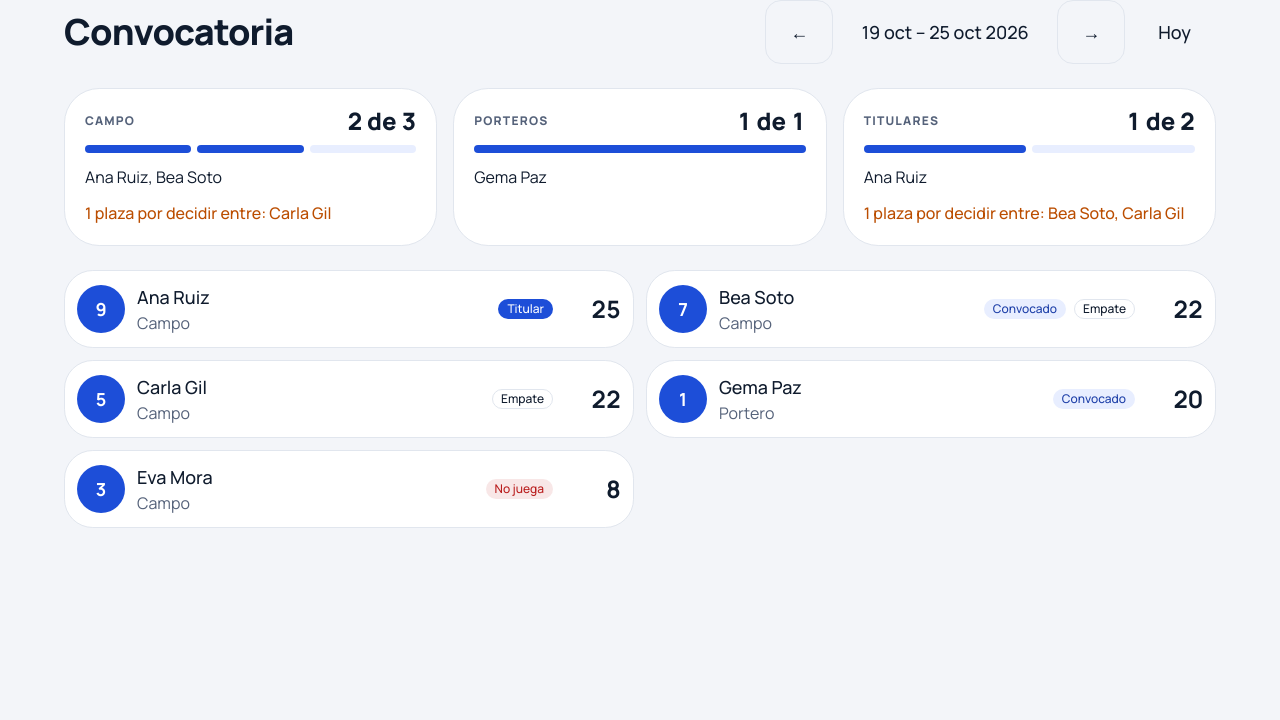
it: ConvocatoriaPage › el desglose tiene un único control de cierre y mantiene el título al cerrarse
This screenshot has width=1280, height=720.
Click the button "9 Ana Ruiz Campo Titular 25" at coordinates (101, 309), box 64,270 -> 634,348
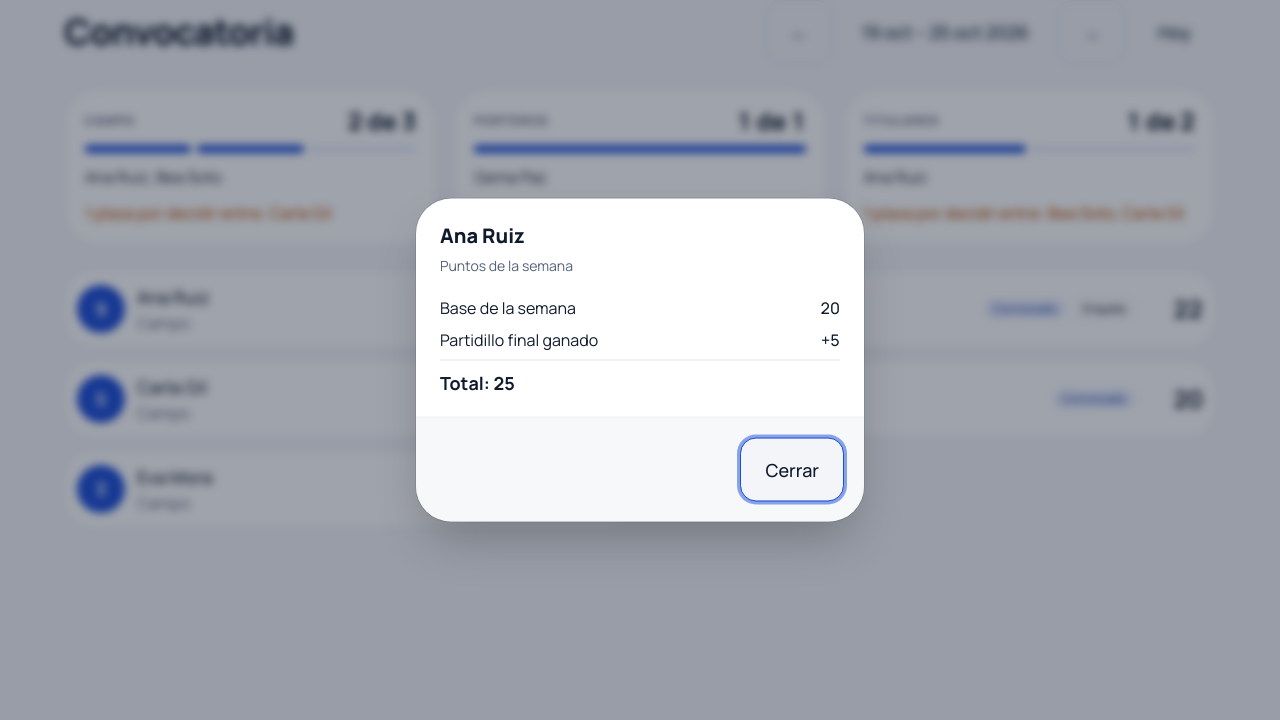
Expected: the number of buttons "Cerrar" is 1
Click the button "Cerrar" at coordinates (792, 470), box 740,438 -> 844,502
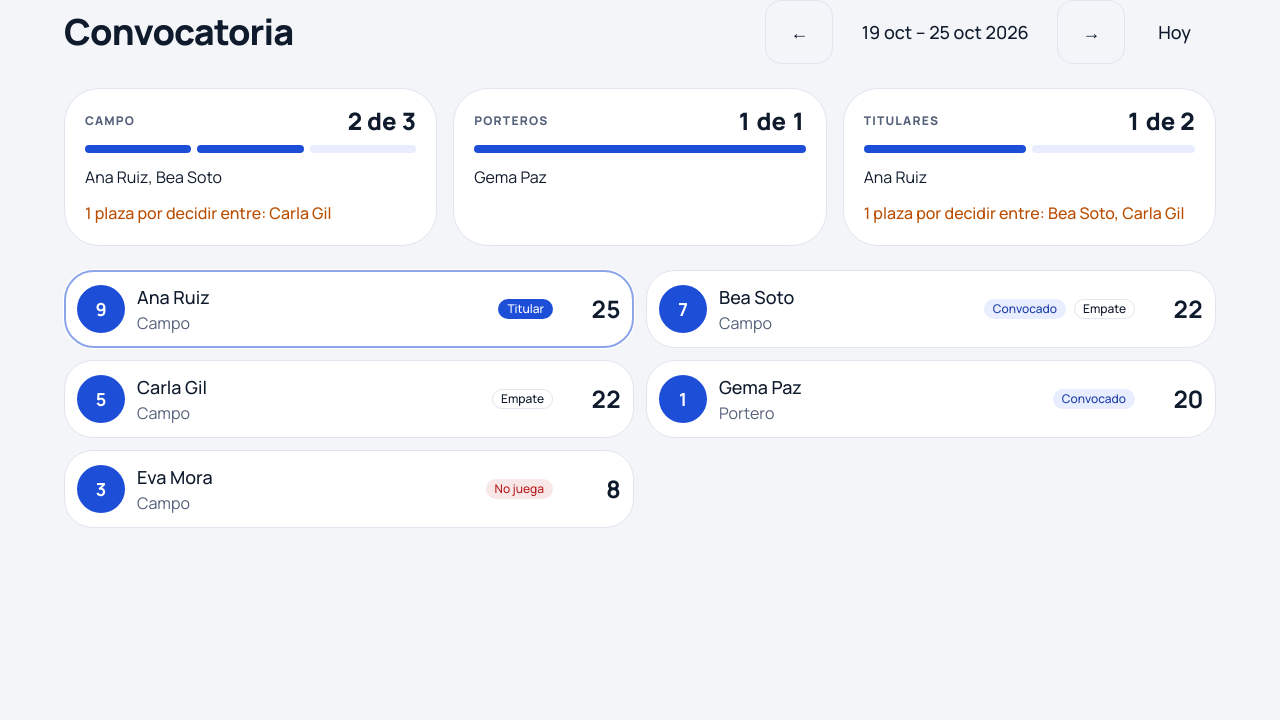
Expected: the dialog is gone
